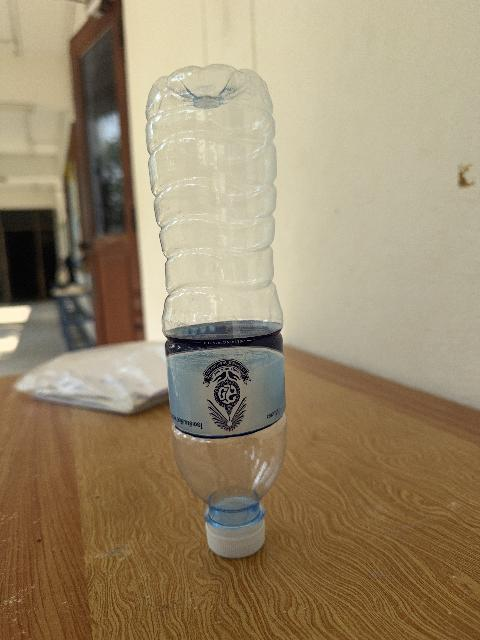bottle: (147, 65, 286, 557)
